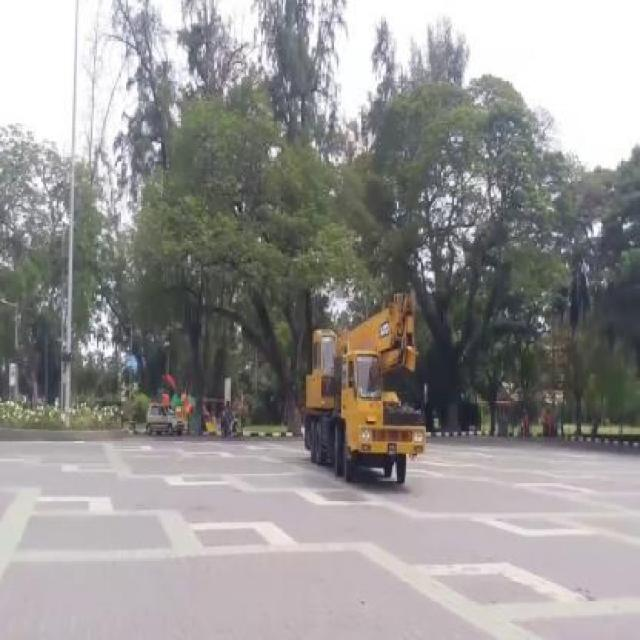Mobile Crane: (306, 288, 420, 484)
